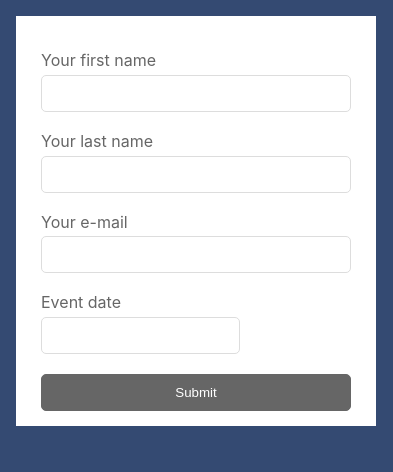
Event form end 2 end tests › Firt name skipped - proper message displayed
Focus the field with id "firstName". click: [196, 94]
box: [41,75,351,112]
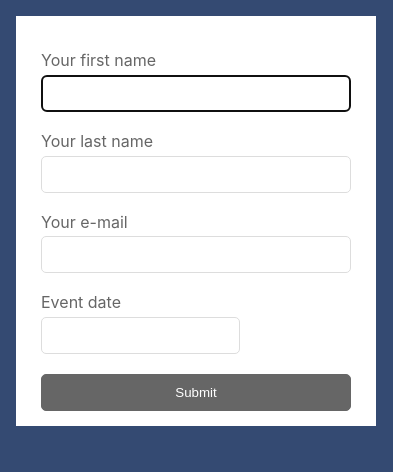
Focus the field with id "lastName". click: [196, 175]
box: [41,156,351,193]
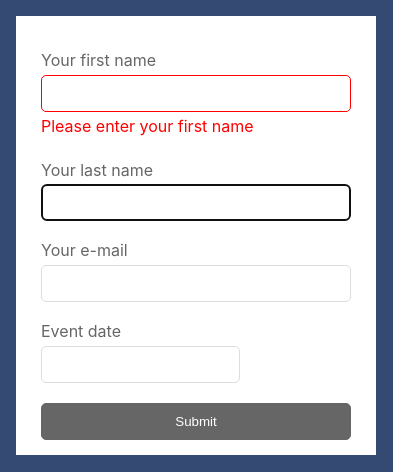
Expected: the text "Please enter your first name" is shown, [41,116,254,136]
